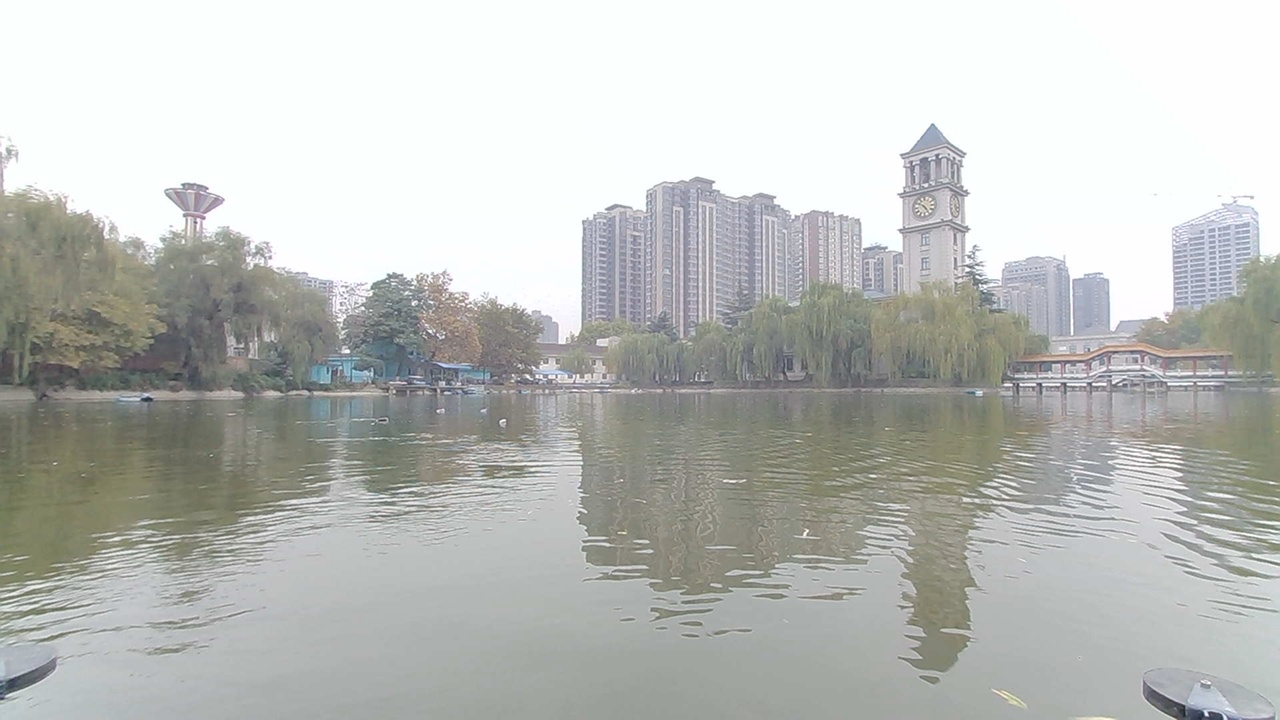bottle: (500, 408, 536, 439), (370, 410, 406, 440), (474, 396, 512, 421), (437, 395, 465, 420)
